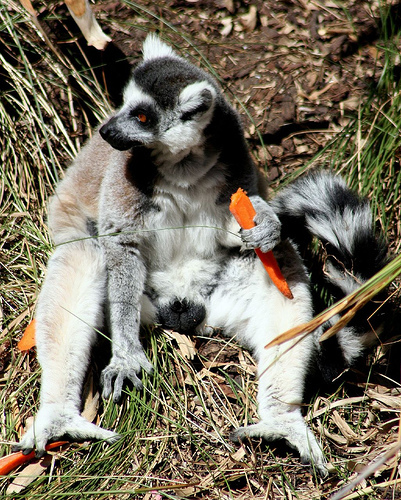cat: (18, 30, 393, 477)
